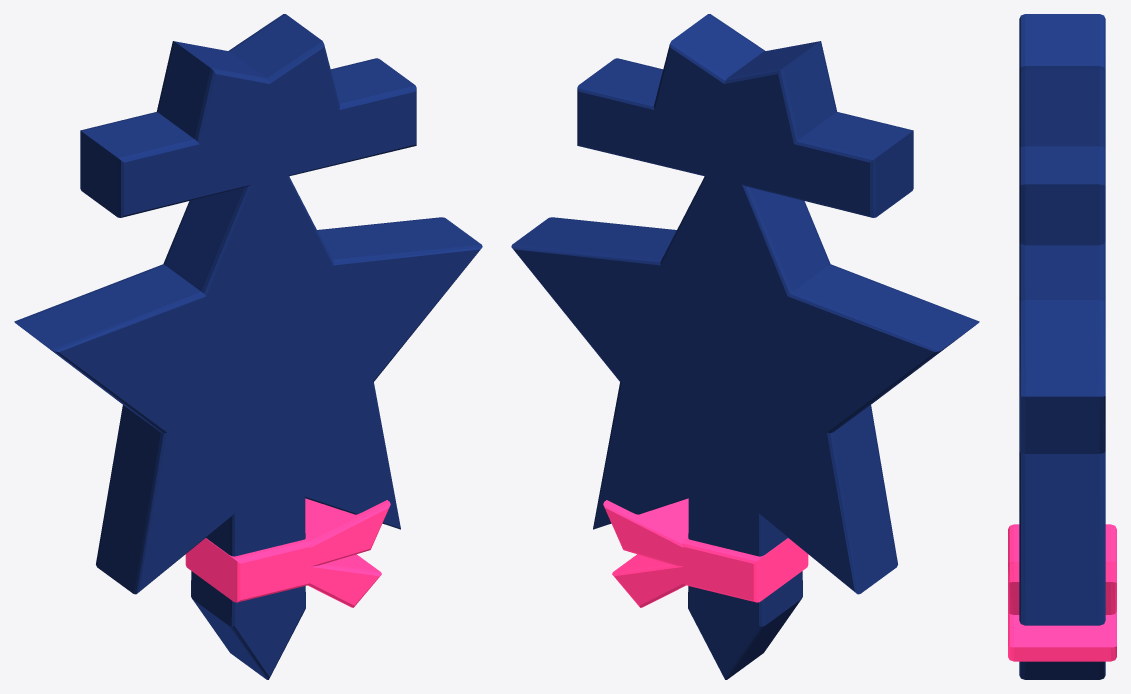
The model's file is starcrop-mark.glb.
3 views of the same model, side by side, from view 1: azimuth 30°, elevation 25°; view 2: azimuth 150°, elevation 25°; view 3: azimuth 270°, elevation 25° (orthographic). The views are drawn at different scales.
Parts seen in each view (by area): view 1: starcrop-mark; view 2: starcrop-mark; view 3: starcrop-mark.
Boxes of the visible parts, box(x1,y1,x2,y2) form: starcrop-mark: box(14, 14, 482, 679); starcrop-mark: box(511, 14, 979, 679); starcrop-mark: box(1008, 14, 1116, 679).
Bounding box in the file's own units: 2.04 × 2.83 × 0.438.
